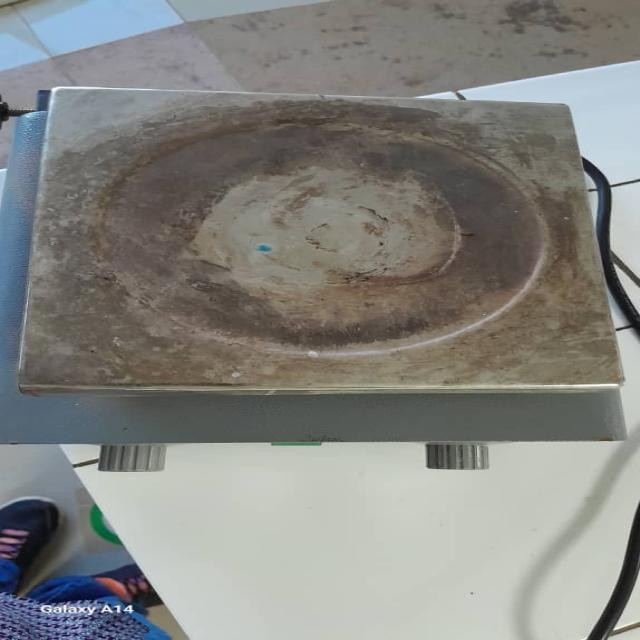Magnetic Stirrer: (20, 88, 627, 480)
